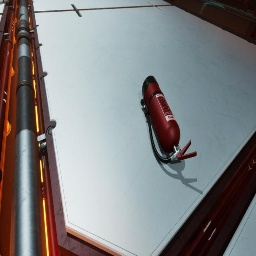0: (0, 0, 10, 2)
FireExtinguisher ]: (140, 76, 197, 164)
